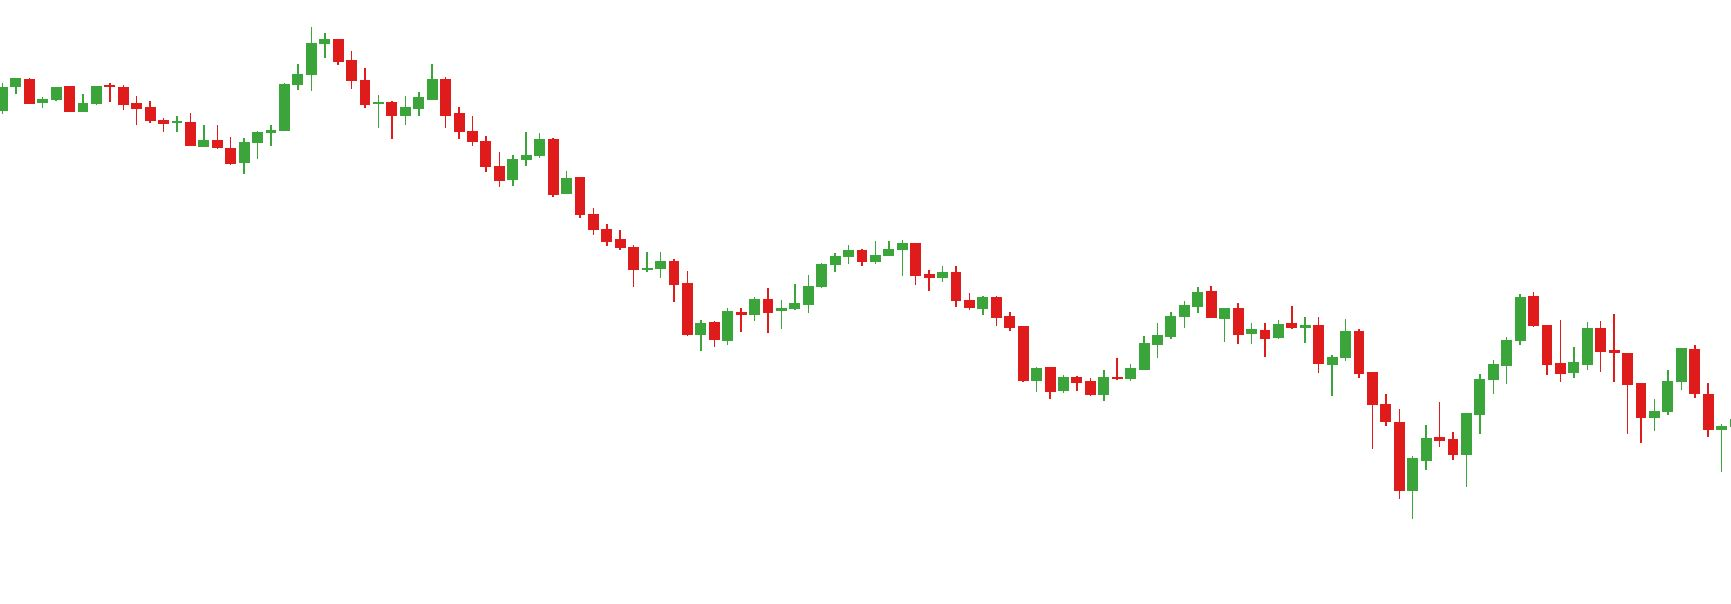sell: (1338, 290, 1541, 401)
